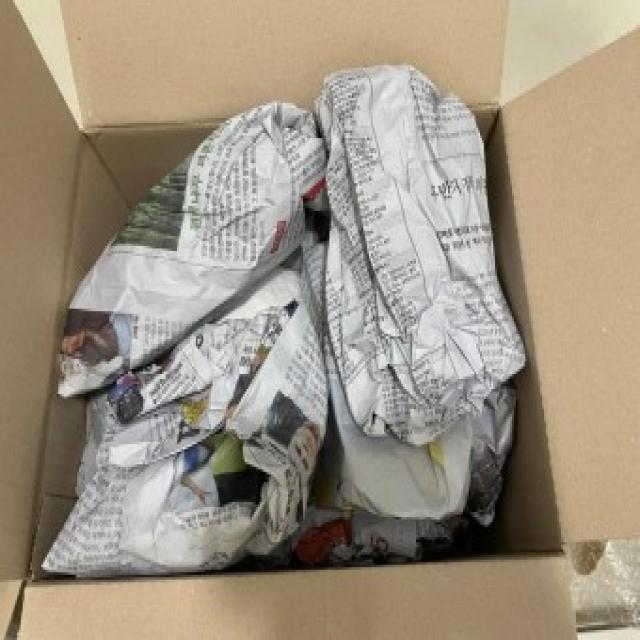Newspaper: (59, 96, 326, 398), (327, 71, 530, 463)
